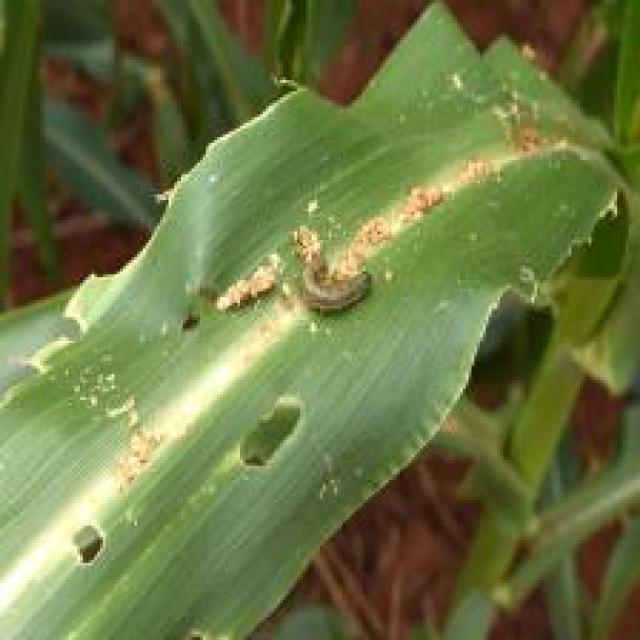Plaga: (283, 241, 386, 324)
